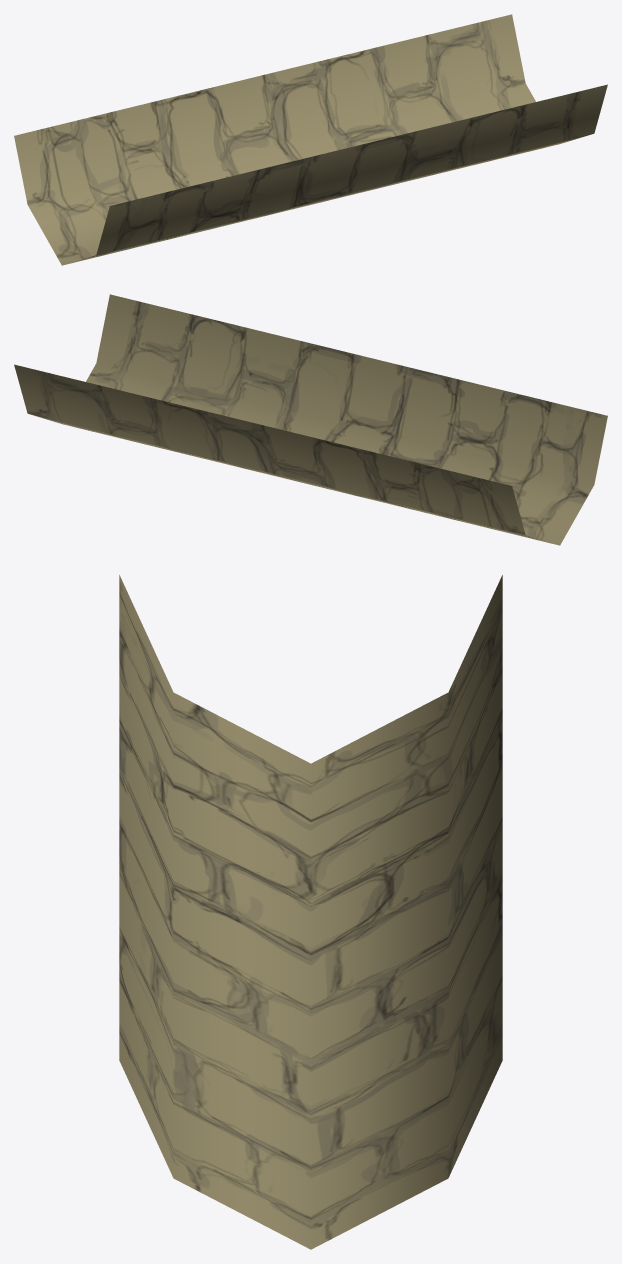
The model's file is Connector.fbx.
3 renders of one model, top to bottom at view 1: azimuth 30°, elevation 25°; view 2: azimuth 150°, elevation 25°; view 3: azimuth 270°, elevation 25°, orthographic. The views are drawn at different scales.
Visible parts, largest first — view 1: Connector; view 2: Connector; view 3: Connector.
Part boxes in pixels (box(x1,y1,x2,y2)): Connector: box(14, 14, 607, 265); Connector: box(14, 294, 607, 545); Connector: box(119, 575, 502, 1249).
Size of the model in its own units: 300 by 54.51 by 100.
